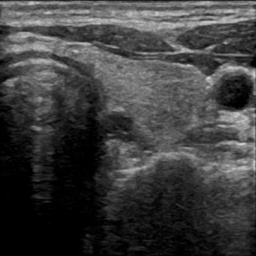mass: (97, 111, 135, 142)
